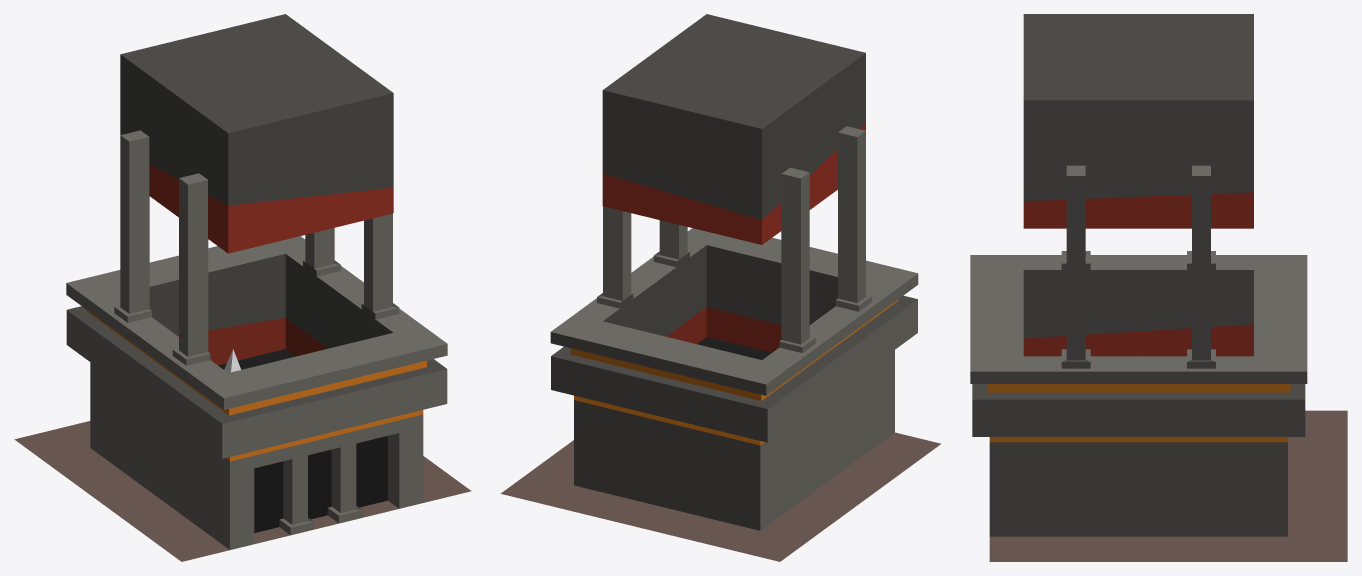
Rendered from Smusher-lvl003.fbx.
The picture shows the model from 3 angles, left to right: view 1: azimuth 30°, elevation 25°; view 2: azimuth 150°, elevation 25°; view 3: azimuth 270°, elevation 25°; orthographic projection. The views are drawn at different scales.
Parts seen in each view (by area): view 1: Smusher, SmusherBlock; view 2: Smusher, SmusherBlock; view 3: Smusher, SmusherBlock.
Boxes of the visible parts, x1,y1,x2,y2 form: Smusher: [14, 130, 471, 561]; SmusherBlock: [120, 14, 393, 253]; Smusher: [500, 126, 941, 561]; SmusherBlock: [602, 14, 865, 244]; Smusher: [970, 165, 1347, 561]; SmusherBlock: [1023, 14, 1253, 228].
Bounding box in the file's own units: 600 × 794 × 632.
